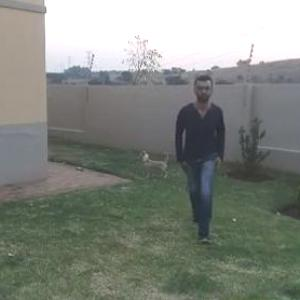follow: (172, 69, 224, 229)
